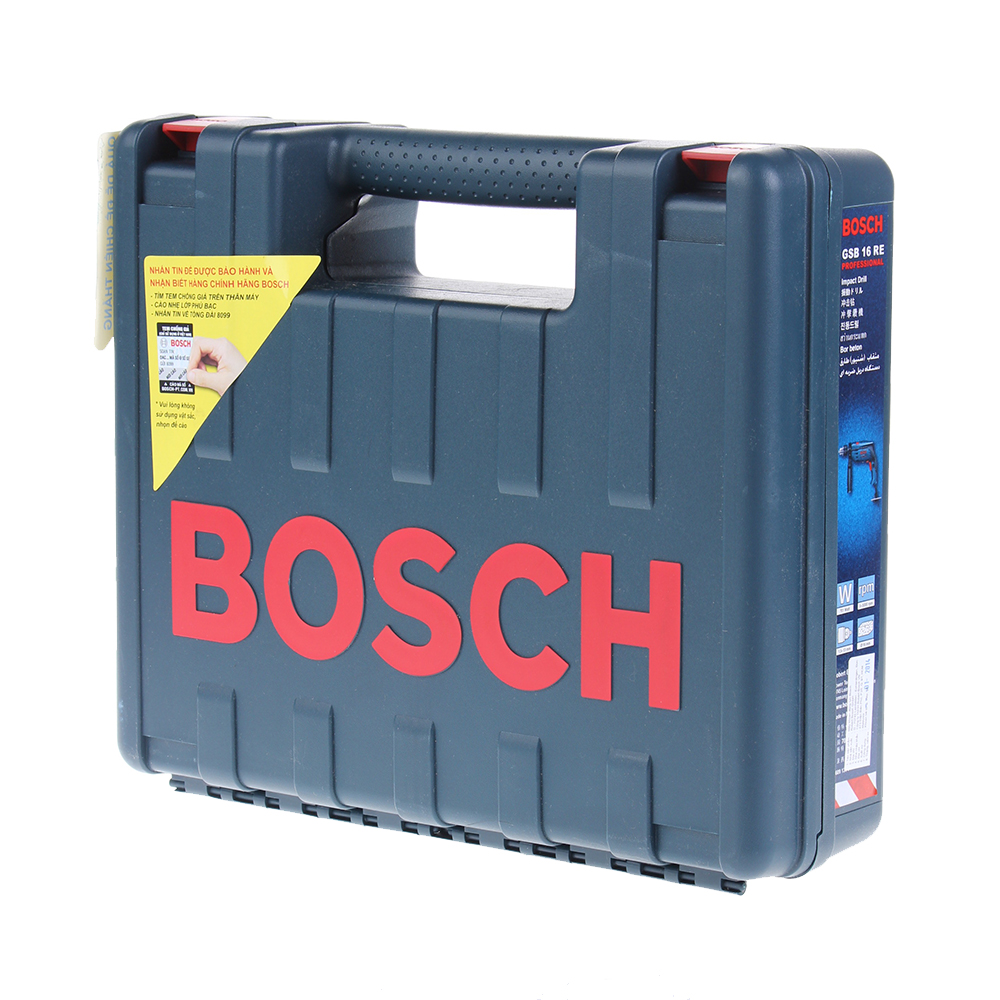Bosch: (160, 488, 722, 726), (837, 212, 891, 237), (167, 336, 193, 351)
